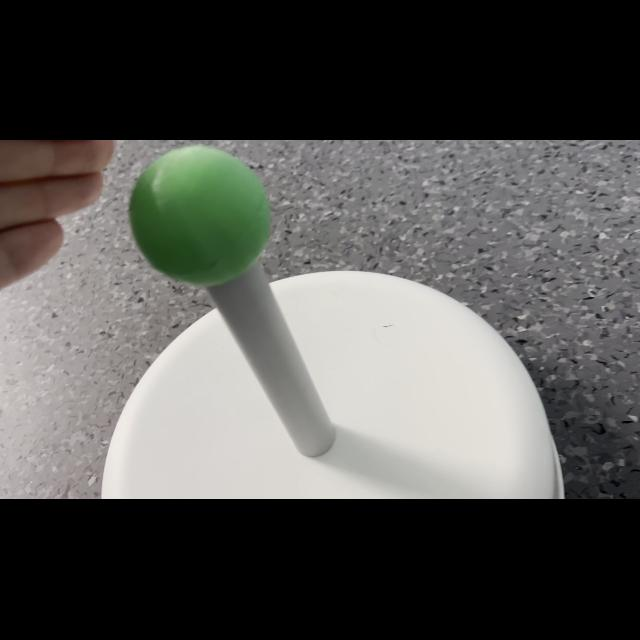objects: (126, 143, 276, 290)
